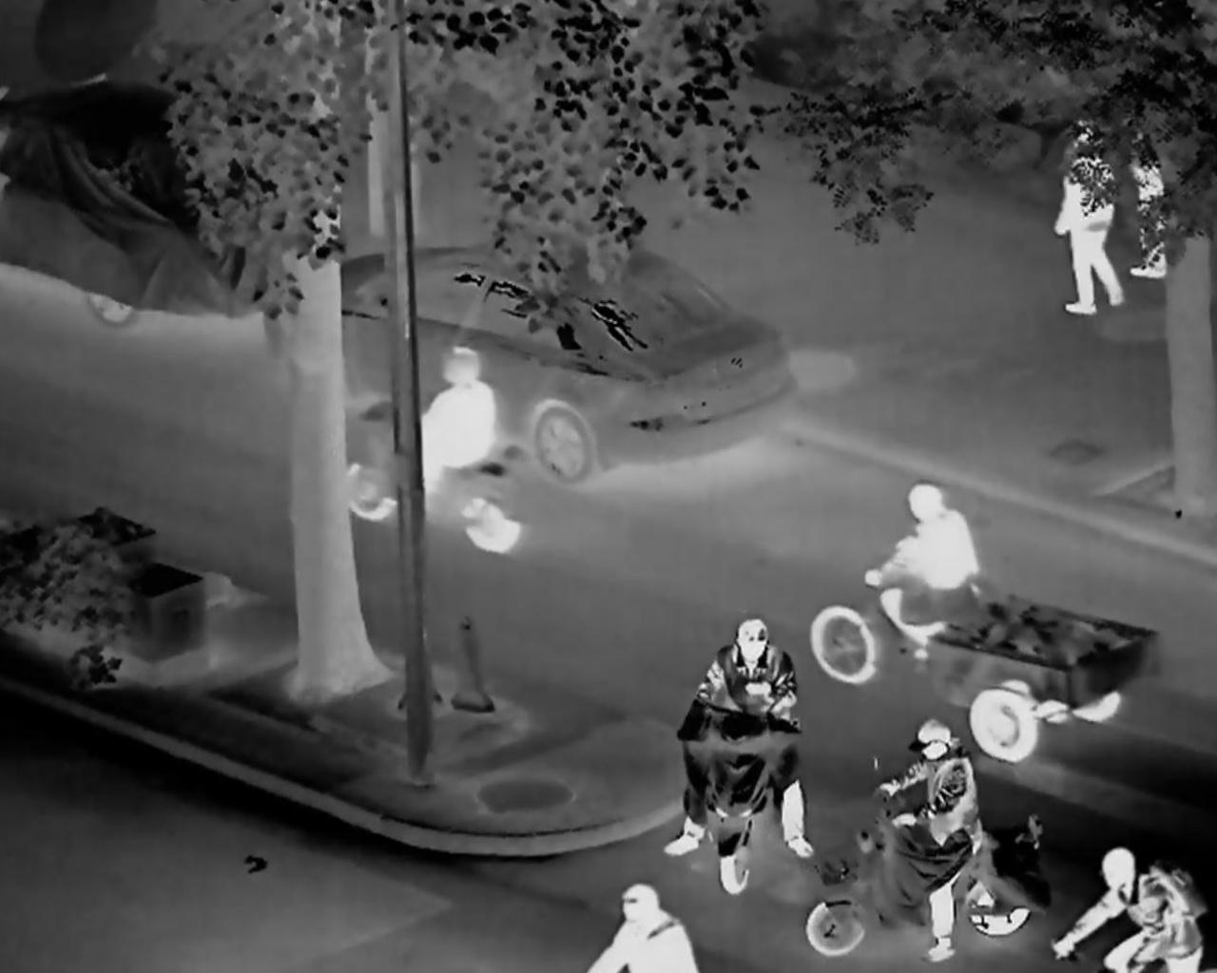person: (652, 613, 826, 873), (879, 715, 999, 972), (850, 467, 989, 681), (1047, 830, 1212, 973), (385, 335, 499, 513), (1054, 126, 1130, 341), (567, 888, 723, 973), (1117, 96, 1180, 293)
